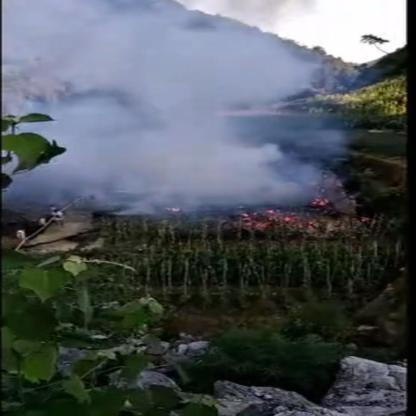smoke: (6, 3, 321, 102), (46, 104, 330, 204)
